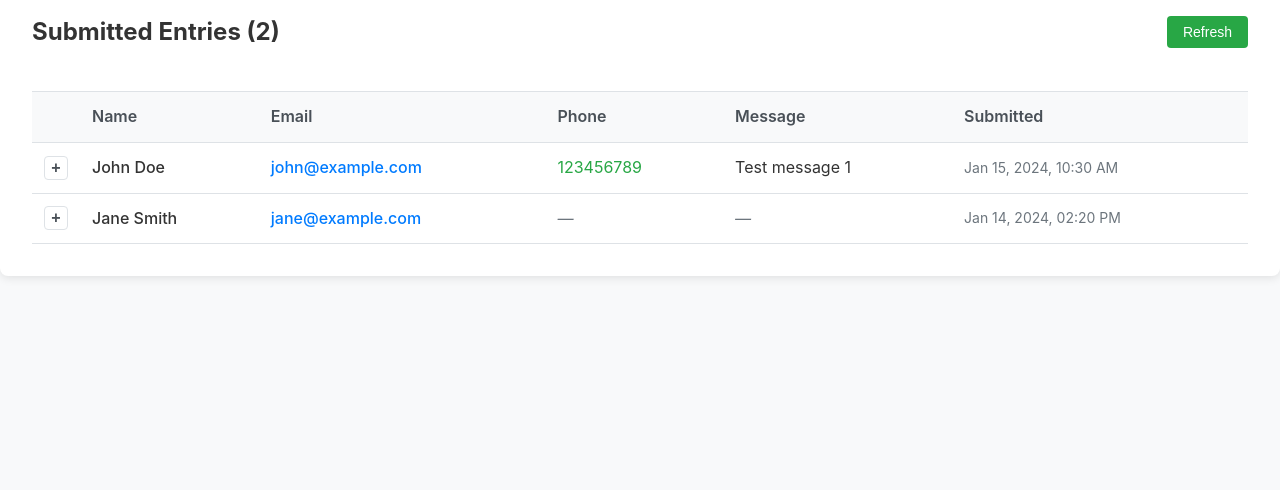
Test: EntriesTable › Row expansion functionality › expands row when expand button is clicked
Step 1. Click the button named "expand row" → (56, 168), box [44,156,68,180]
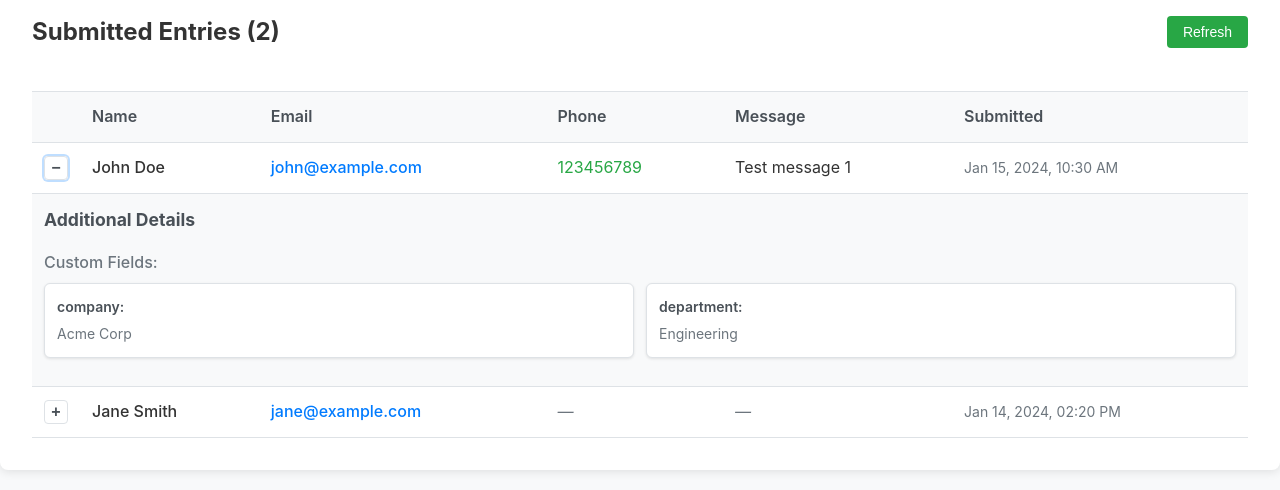
Expected: the heading "Additional Details" is shown, [44,209,195,230]
